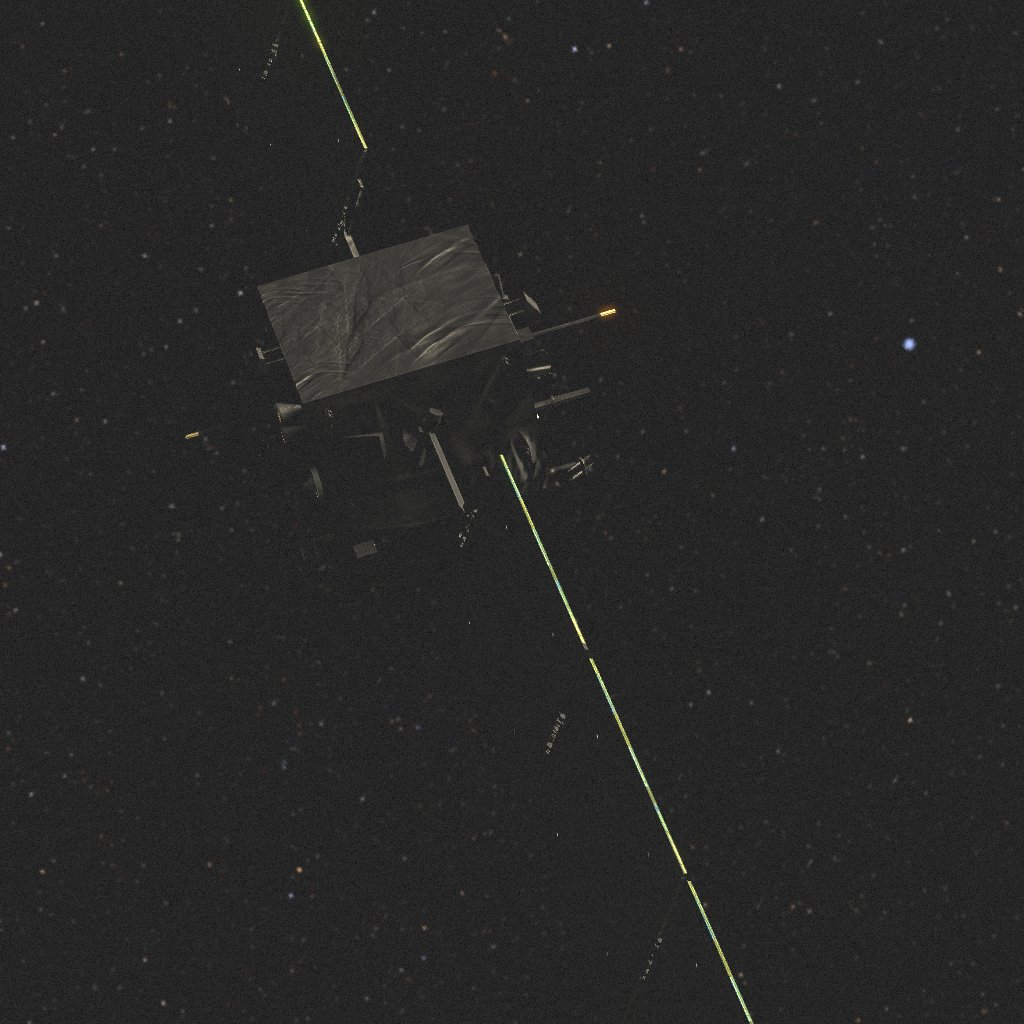smart_1: (186, 0, 753, 1024)
